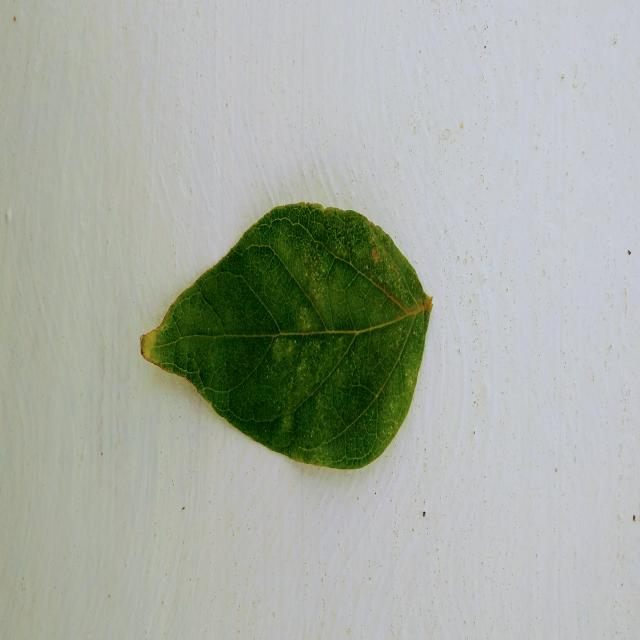Parijatha: (141, 204, 432, 469)
